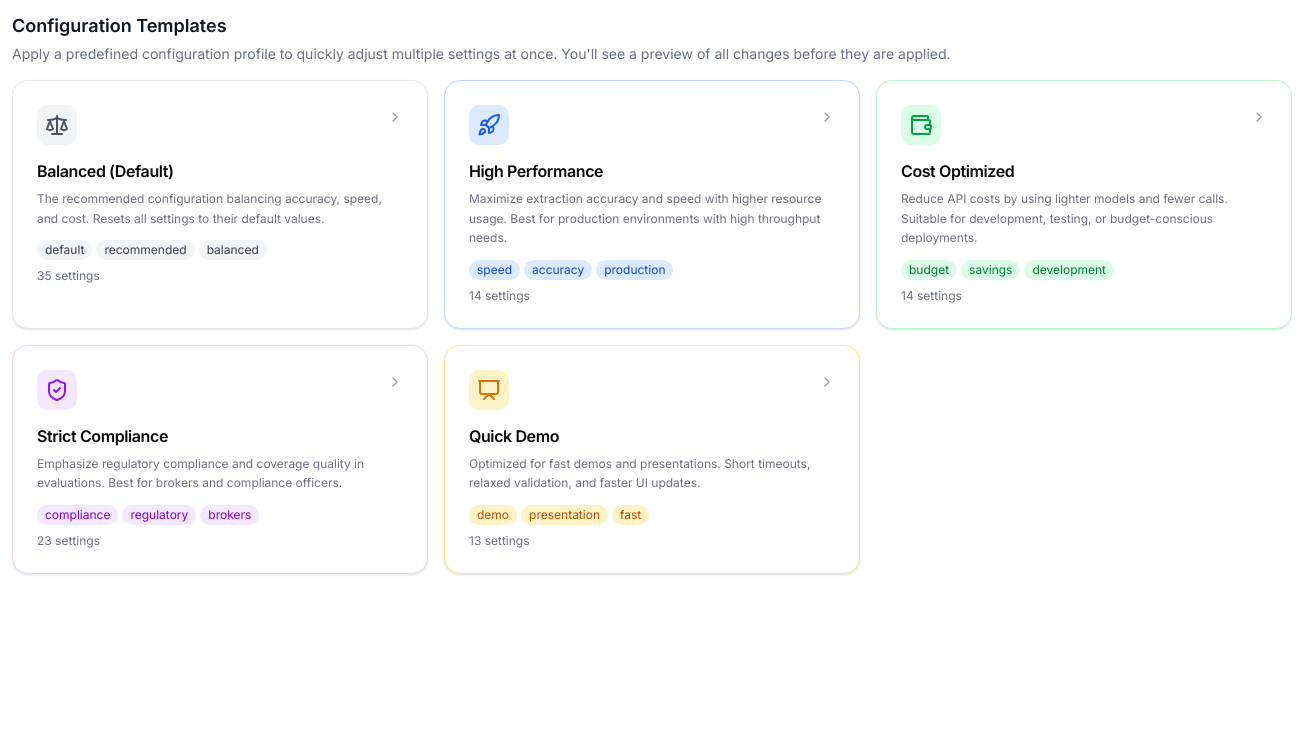
Scenario: SettingsTemplatesPanel › should show no changes message when settings already match balanced template
Click the heading "Balanced (Default)": (105, 171) [37,161,174,181]
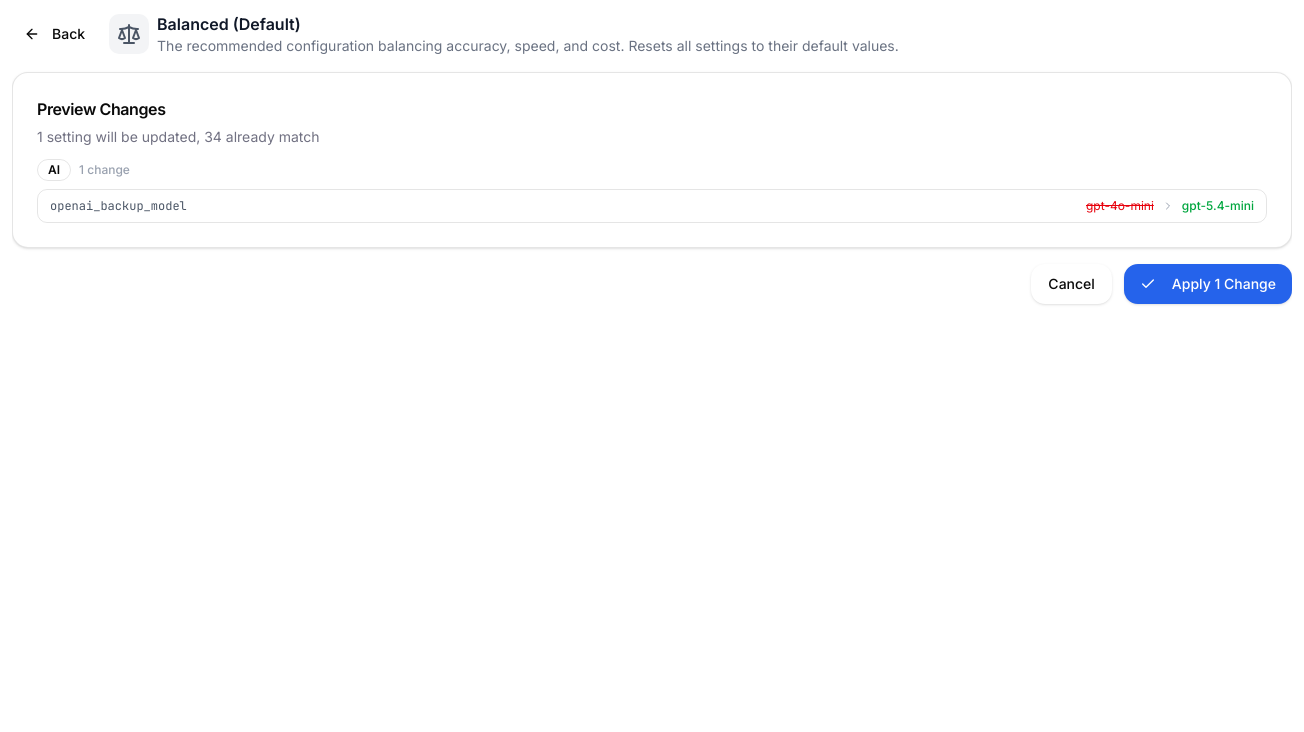
Check: the heading "Preview Changes" is shown, box [37,99,166,119]
